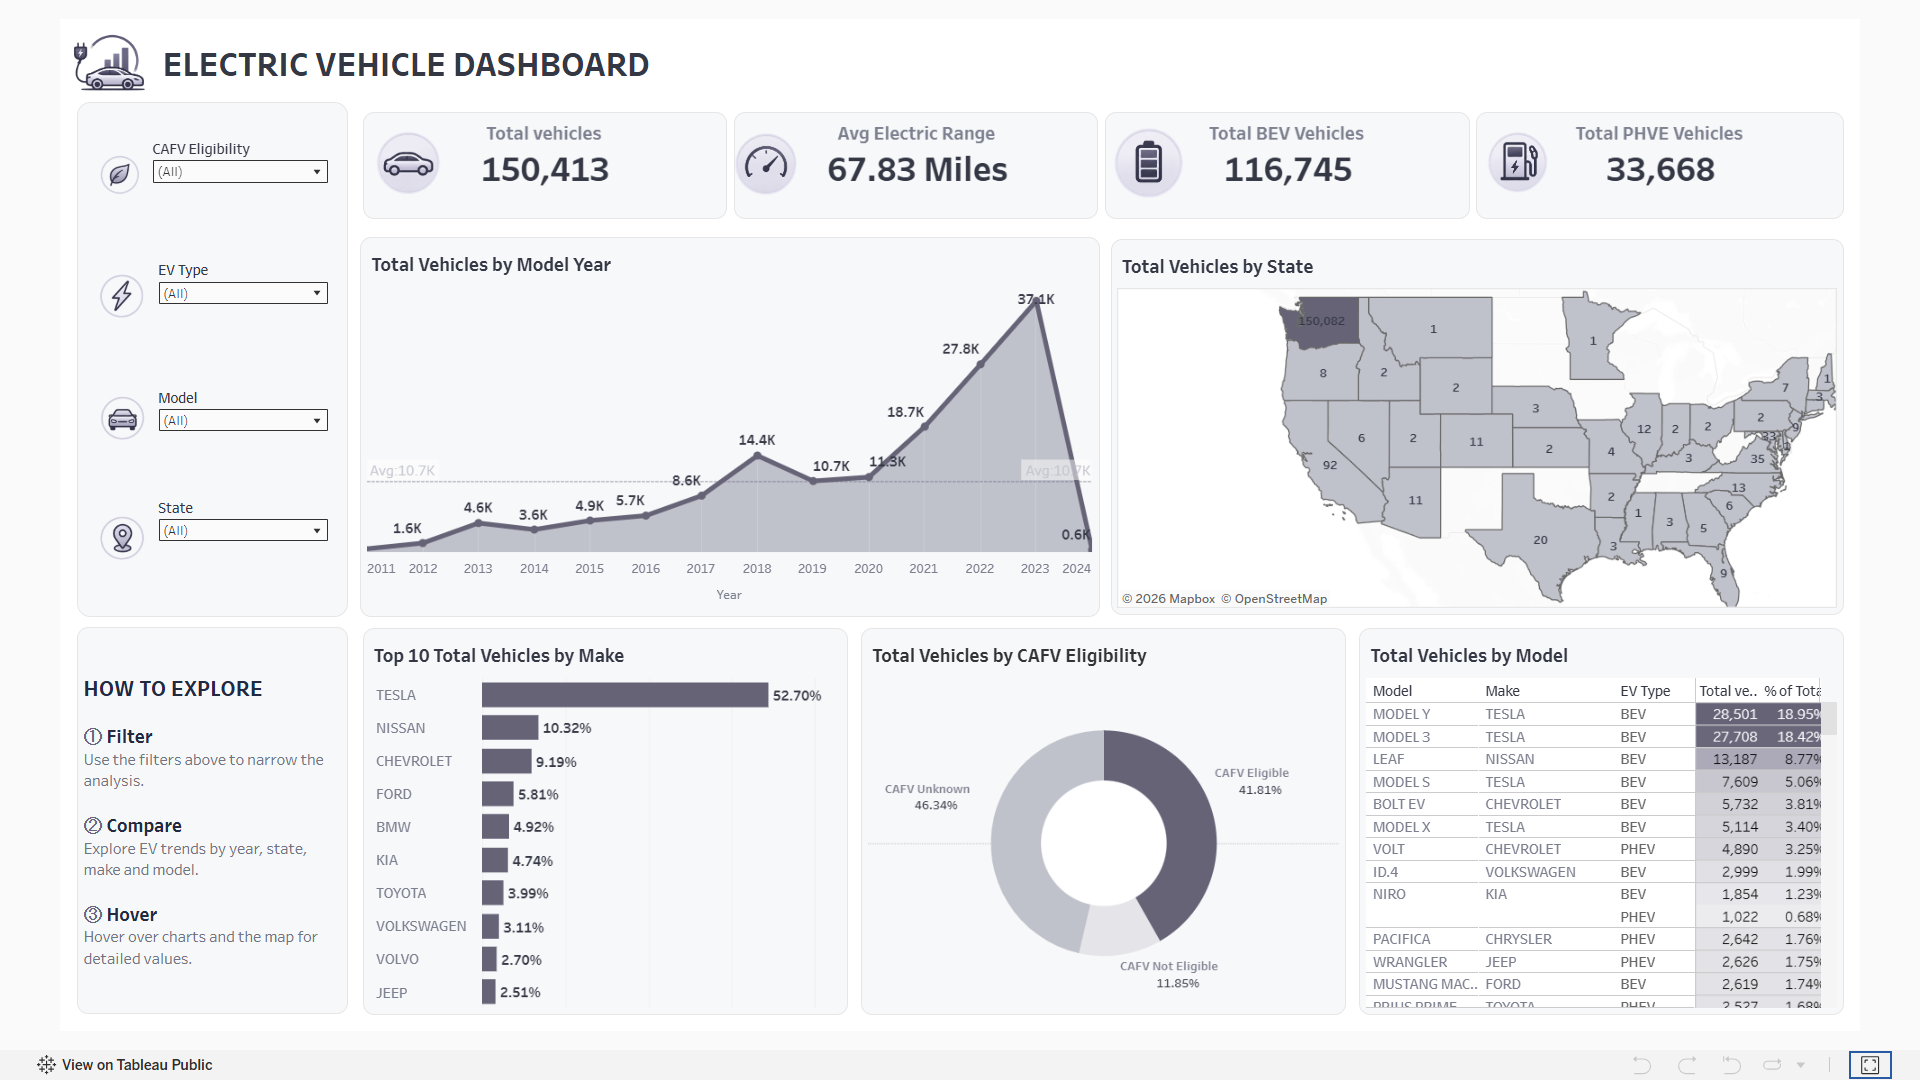

The dashboard page shown, as its layout file describes it:
{"tool":"tableau","page":{"name":"Ev Dashboard","canvas":[1600,900],"ordinal":0},"visuals":[{"type":"image","param":"Image/1.png","box":[8,8,79,63]},{"type":"title","box":[87,8,1505,63]},{"type":"image","param":"Image/09_kpi_phve_charging_station.png","box":[1263,72,68,110]},{"type":"image","param":"Image/08_kpi_bev_battery.png","box":[930,74,77,108]},{"type":"image","param":"Image/06_kpi_total_vehicles_car.png","box":[276,76,69,105]},{"type":"worksheet","title":"Total Vehicles","mark":"Automatic","box":[269,77,330,107]},{"type":"worksheet","title":"AVG Electric Range","mark":"Automatic","box":[599,77,330,107]},{"type":"worksheet","title":"Total BEV Vehicles","mark":"Automatic","box":[929,77,330,107]},{"type":"worksheet","title":"Total PHVE Vehicles","mark":"Automatic","box":[1259,77,330,107]},{"type":"image","param":"Image/07_kpi_avg_range_speedometer.png","box":[594,80,69,98]},{"type":"image","param":"Image/2.png","box":[28,87,50,108]},{"type":"filter","title":"Total Vehicles by Model Year","param":"[federated.15disn6139udj218ma13h0ewslrk].[none:Clean Alternative Fuel Vehicle (C","box":[78,87,165,108]},{"type":"worksheet","title":"Total Vehicles by Model Year","mark":"Area","rows":["Calculation_1883222219128835","Calculation_1883222219128835"],"cols":["Model Year"],"box":[263,190,665,346]},{"type":"worksheet","title":"Total Vehicles by State","mark":"Multipolygon","box":[928,190,664,346]},{"type":"image","param":"Image/03_filter_ev_lightning.png","box":[28,195,55.1,108]},{"type":"filter","title":"Total Vehicles by Model Year","param":"[federated.15disn6139udj218ma13h0ewslrk].[none:Electric Vehicle Type:nk]","box":[83.1,195,159.9,108]},{"type":"image","param":"Image/04_filter_model_car.png","box":[28,303,55.1,108]},{"type":"filter","title":"Total Vehicles by Model Year","param":"[federated.15disn6139udj218ma13h0ewslrk].[none:Model:nk]","box":[83.1,313,159.9,98]},{"type":"image","param":"Image/05_filter_state_location.png","box":[28,411,55.1,108]},{"type":"filter","title":"Total Vehicles by Model Year","param":"[federated.15disn6139udj218ma13h0ewslrk].[none:State:nk]","box":[83.1,411,159.9,108]},{"type":"worksheet","title":"Top 10 Total Vehicles by Make","mark":"Automatic","rows":["Make"],"cols":["Calculation_1883222219128835"],"box":[263,536,443,356]},{"type":"worksheet","title":"Total Vehicles by CAFV Eligibility","mark":"Pie","rows":["Calculation_1883222259920905","Calculation_1883222259920905"],"box":[706,536,443,356]},{"type":"worksheet","title":"Total Vehicles by Model","mark":"Square","rows":["Model","Make","Electric Vehicle Type"],"box":[1149,536,443,356]},{"type":"text","box":[14,537,243,349]}]}

Visuals, with their boxes on the page's 1600x900 design canvas (x1, y1, x2, y2). These are canvas units, not pixel positions in the 1920x1080 screenshot, which may show the page scaled, cropped or inside an application window:
image: Rect(8, 8, 87, 71)
title: Rect(87, 8, 1592, 71)
image: Rect(1263, 72, 1331, 182)
image: Rect(930, 74, 1007, 182)
image: Rect(276, 76, 345, 181)
"Total Vehicles" worksheet: Rect(269, 77, 599, 184)
"AVG Electric Range" worksheet: Rect(599, 77, 929, 184)
"Total BEV Vehicles" worksheet: Rect(929, 77, 1259, 184)
"Total PHVE Vehicles" worksheet: Rect(1259, 77, 1589, 184)
image: Rect(594, 80, 663, 178)
image: Rect(28, 87, 78, 195)
"Total Vehicles by Model Year" filter: Rect(78, 87, 243, 195)
"Total Vehicles by Model Year" worksheet (Area marks): Rect(263, 190, 928, 536)
"Total Vehicles by State" worksheet (Multipolygon marks): Rect(928, 190, 1592, 536)
image: Rect(28, 195, 83, 303)
"Total Vehicles by Model Year" filter: Rect(83, 195, 243, 303)
image: Rect(28, 303, 83, 411)
"Total Vehicles by Model Year" filter: Rect(83, 313, 243, 411)
image: Rect(28, 411, 83, 519)
"Total Vehicles by Model Year" filter: Rect(83, 411, 243, 519)
"Top 10 Total Vehicles by Make" worksheet: Rect(263, 536, 706, 892)
"Total Vehicles by CAFV Eligibility" worksheet (Pie marks): Rect(706, 536, 1149, 892)
"Total Vehicles by Model" worksheet (Square marks): Rect(1149, 536, 1592, 892)
text: Rect(14, 537, 257, 886)
